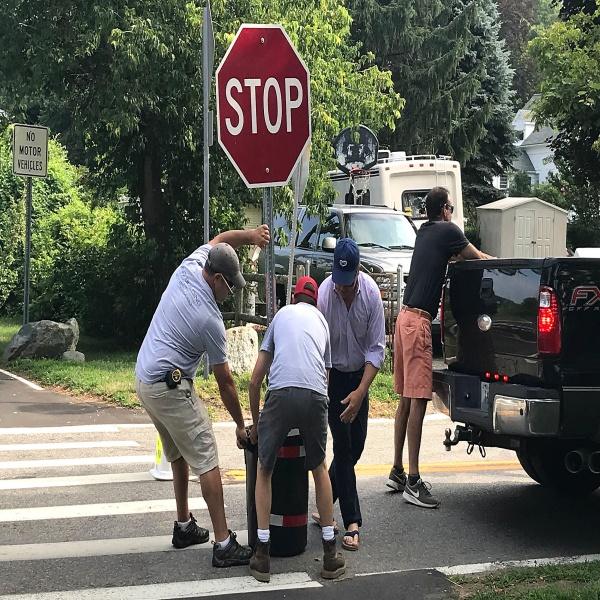stop: (220, 17, 322, 192)
